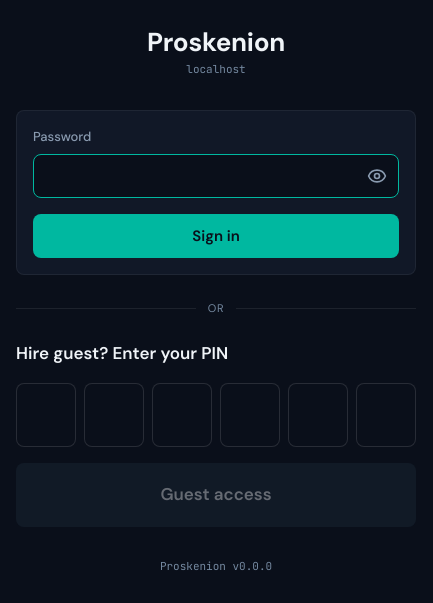
Scenario: LoginPage › keeps the password on a wrong password and announces the error
In the password field labelled "Password": x=216, y=176 [33,154,399,198], type "nope"
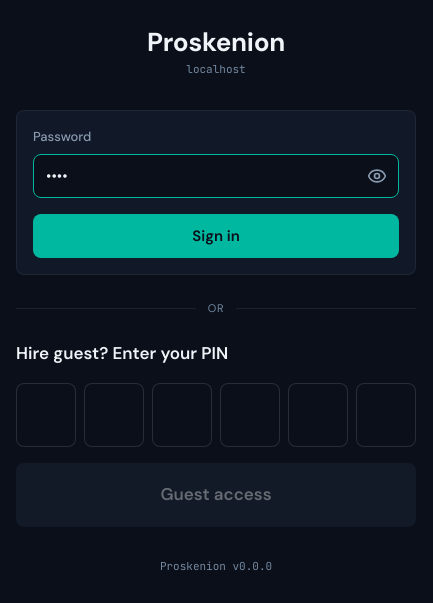
Click the button with test id "sign-in": x=216, y=236 [33,214,399,258]
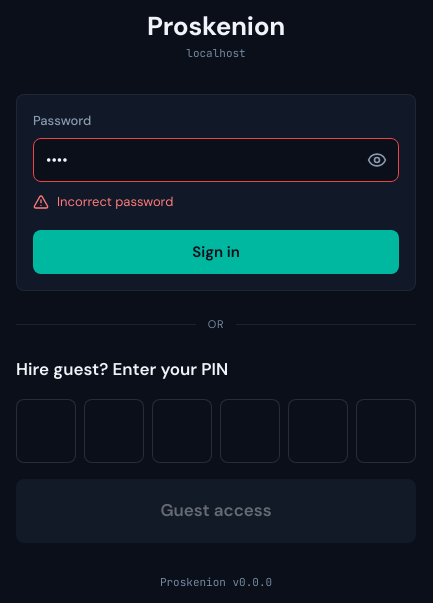
Check: the message reads "Incorrect password", box [57,194,173,210]
